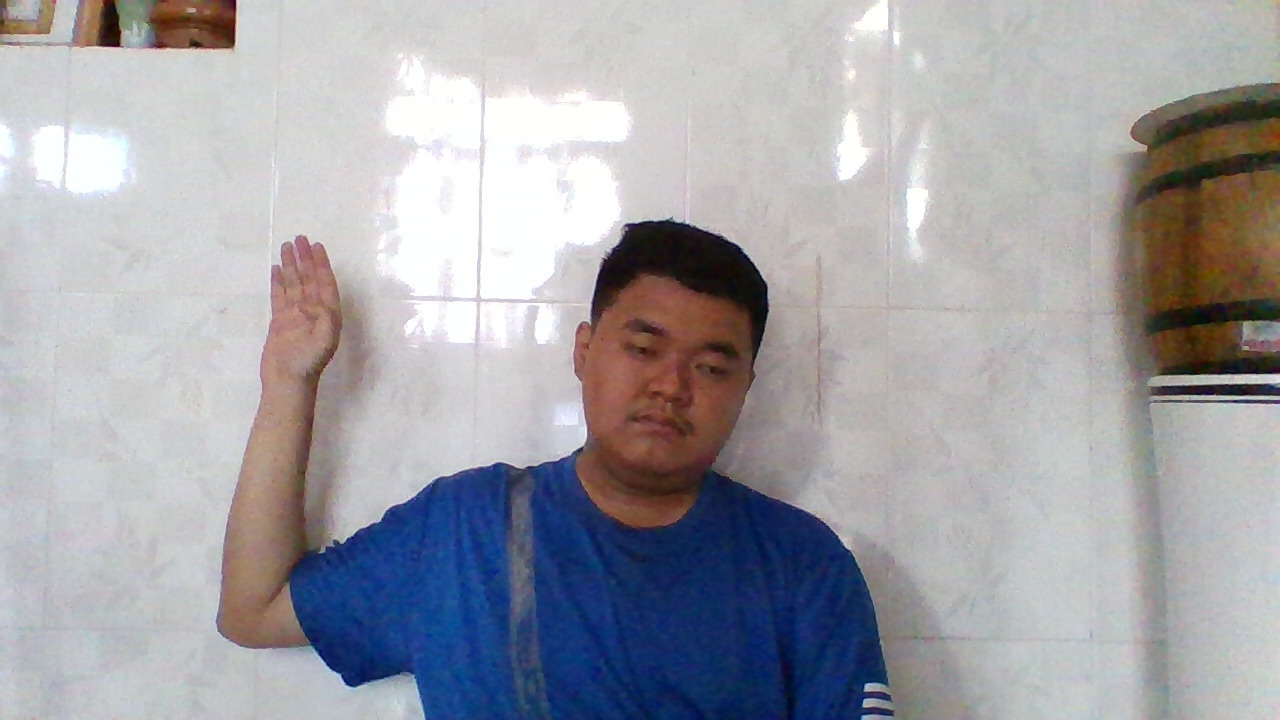B: (258, 224, 347, 394)
